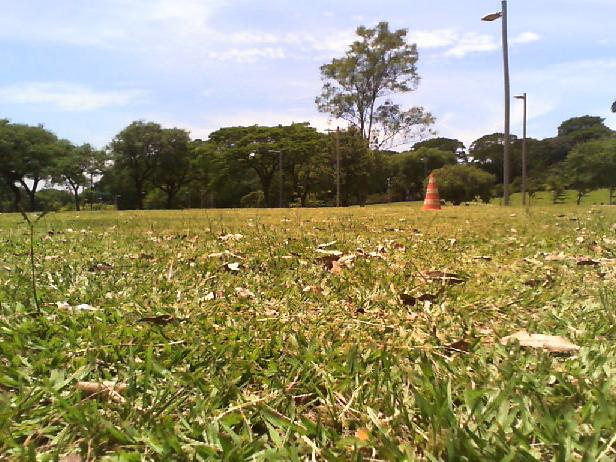0 cone: (421, 174, 442, 211)
